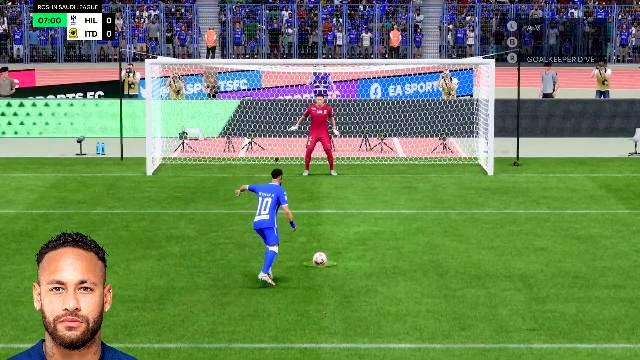bottom-left: (157, 132, 263, 180)
bottom-right: (376, 130, 482, 178)
center-down: (266, 132, 374, 180)
center-up: (265, 71, 373, 130)
circle: (303, 258, 337, 266)
football: (313, 253, 327, 265)
goalkeeper: (302, 107, 342, 181)
player: (234, 170, 294, 286)
top-left: (158, 70, 264, 130)
top-right: (374, 72, 482, 128)
